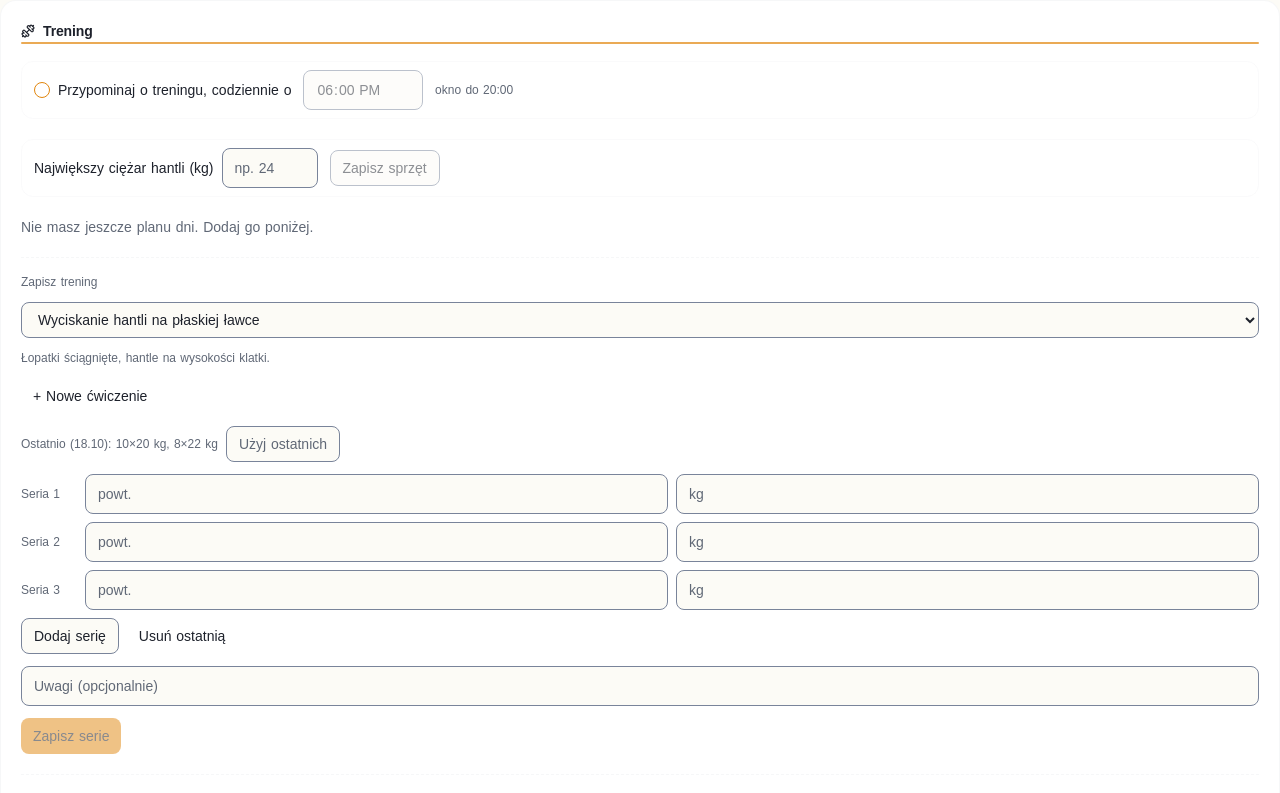
Test: TrainingSection › „Użyj ostatnich” przepisuje serie z ostatniej sesji tego ćwiczenia
Check: the text "Ostatnio (18.10): 10×20 kg, 8×22 kg" is shown, box [21,436,218,452]
Click the button "Użyj ostatnich": click(283, 444) [226,426,340,462]
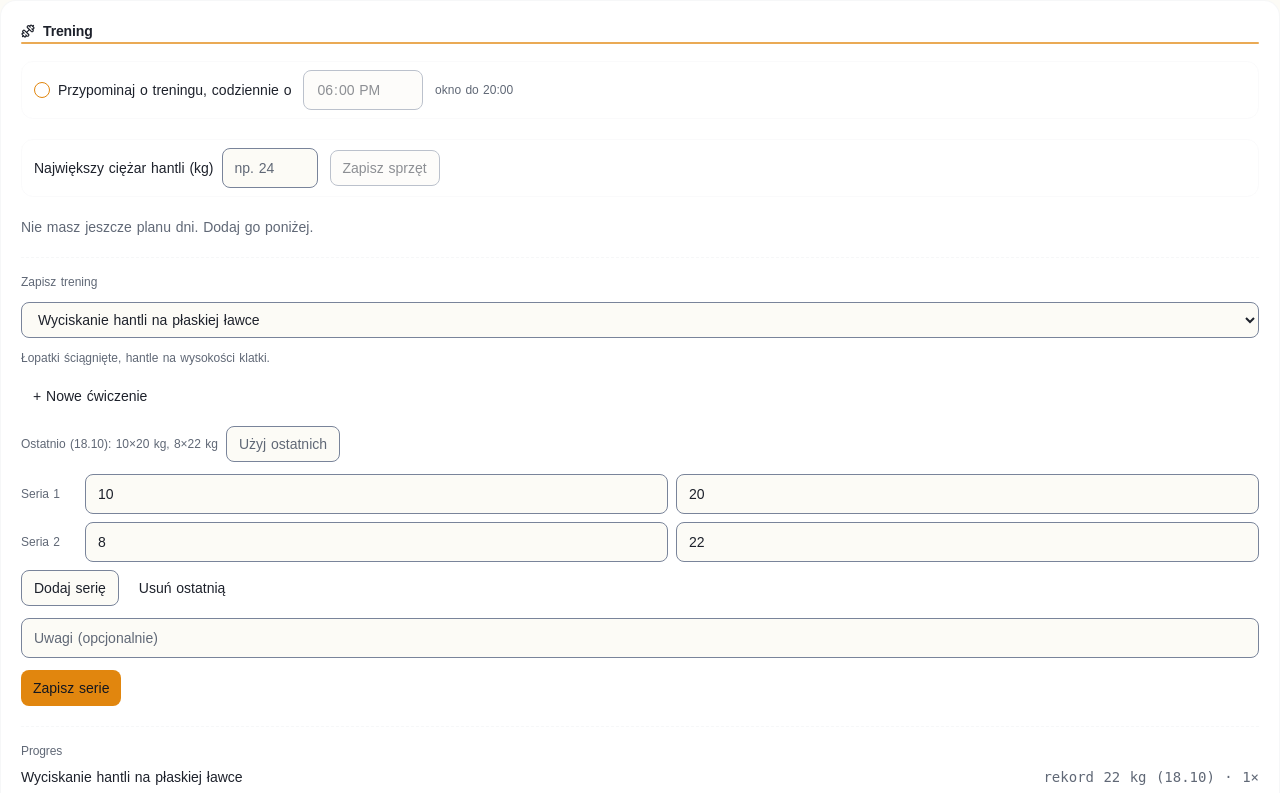
Check: the field named "Powtórki, seria 2" holds "8", box [85,522,668,562]
Check: the field named "Ciężar kg, seria 2" holds "22", box [676,522,1259,562]
